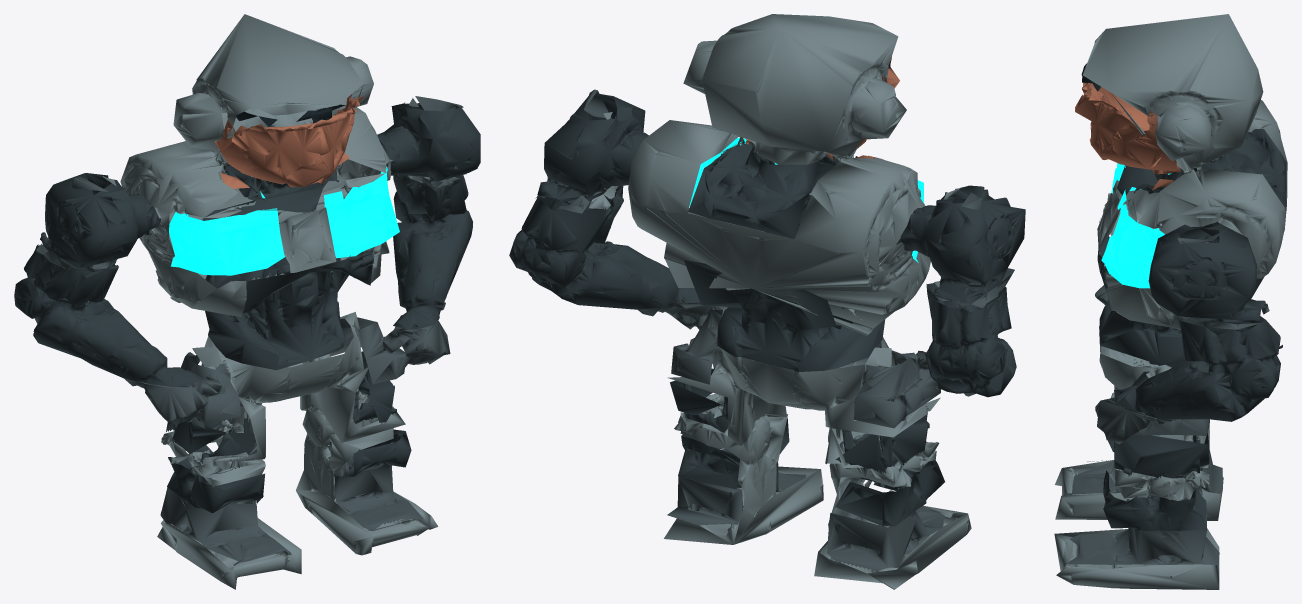
Rendered from dominion-robot.glb.
3 renders of one model, left to right at view 1: azimuth 30°, elevation 25°; view 2: azimuth 150°, elevation 25°; view 3: azimuth 270°, elevation 25°, orthographic. The views are drawn at different scales.
Parts seen in each view (by area): view 1: Starfall_Dominion_Robot_Web; view 2: Starfall_Dominion_Robot_Web; view 3: Starfall_Dominion_Robot_Web.
Boxes of the visible parts, bbox=[...] form: Starfall_Dominion_Robot_Web: bbox=[14, 14, 480, 589]; Starfall_Dominion_Robot_Web: bbox=[509, 14, 1025, 589]; Starfall_Dominion_Robot_Web: bbox=[1054, 14, 1287, 589].
Size of the model in its own units: 1.85 by 2.01 by 0.8145.
